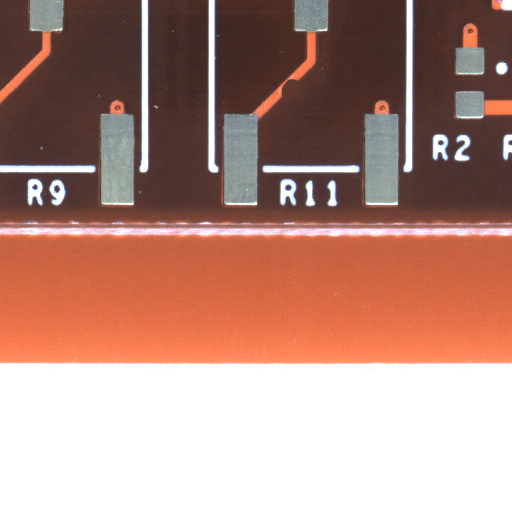Mouse_bite: (290, 88, 317, 117)
